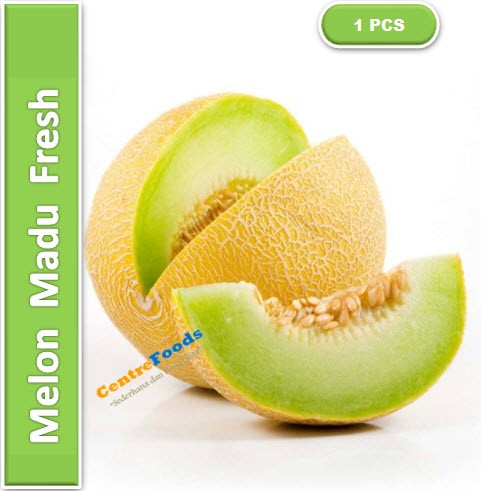Melon: (163, 238, 471, 448)
